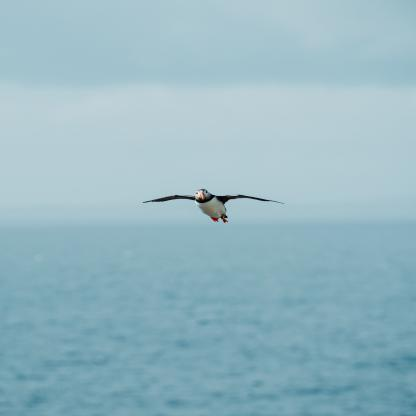bird: (143, 189, 285, 223)
